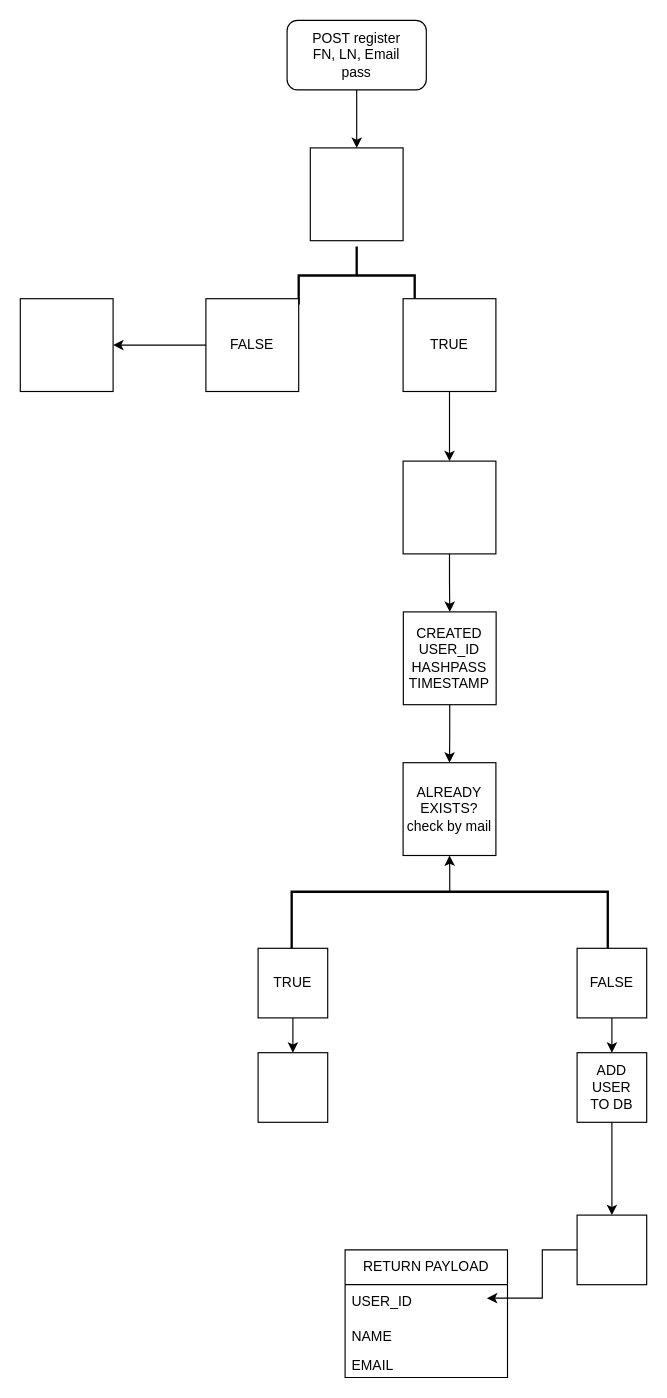
This 667x1398 diagram has some shape labels left out. The centre of each missing label's shape, as x and y in pixels:
"PYDANTIC VALIDATION" goes at (356,194).
"RETURN 200 USER" goes at (611,1249).
"RETURN 409 FAILED" goes at (292,1087).
"RETURN PYDANTIC ERROR" goes at (66,345).
"STRIP/CLEAN FIELDS" goes at (449,507).
